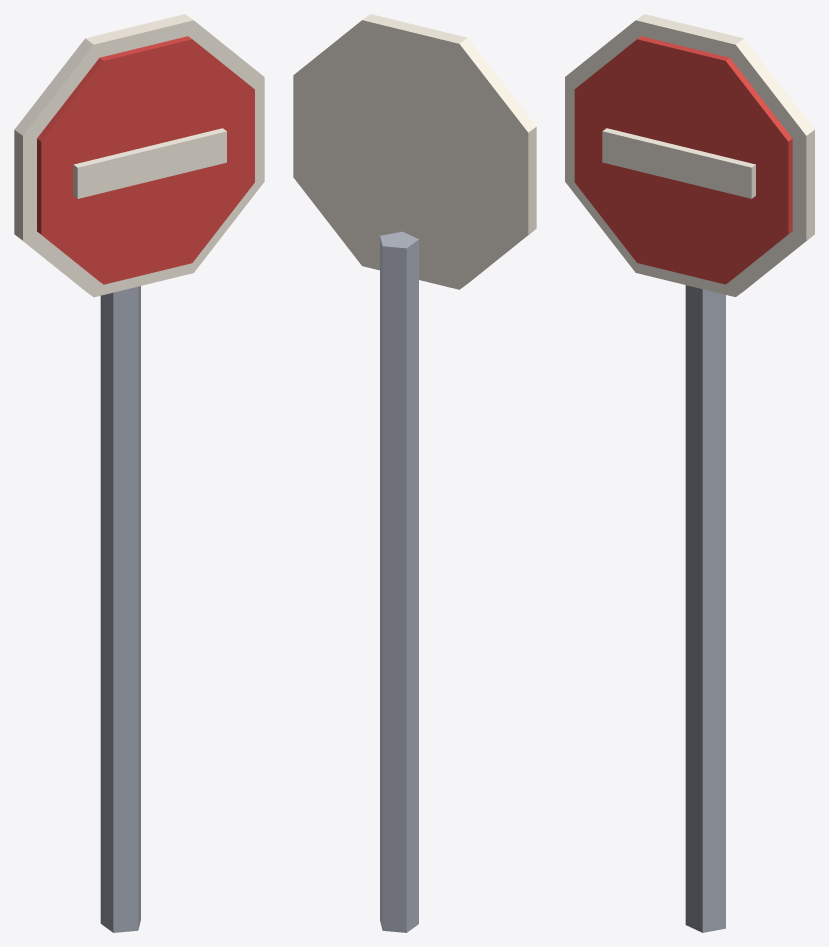
File: prop_stop_sign.glb
3 renders of one model, left to right at view 1: azimuth 30°, elevation 25°; view 2: azimuth 150°, elevation 25°; view 3: azimuth 330°, elevation 25°, orthographic. The views are drawn at different scales.
Parts seen in each view (by area): view 1: prop_stop_sign; view 2: prop_stop_sign; view 3: prop_stop_sign.
Boxes of the visible parts, x1,y1,x2,y2 form: prop_stop_sign: (14, 14, 264, 932); prop_stop_sign: (293, 14, 536, 932); prop_stop_sign: (565, 14, 814, 932).
Size of the model in its own units: 0.0647 by 0.2323 by 0.0188.
